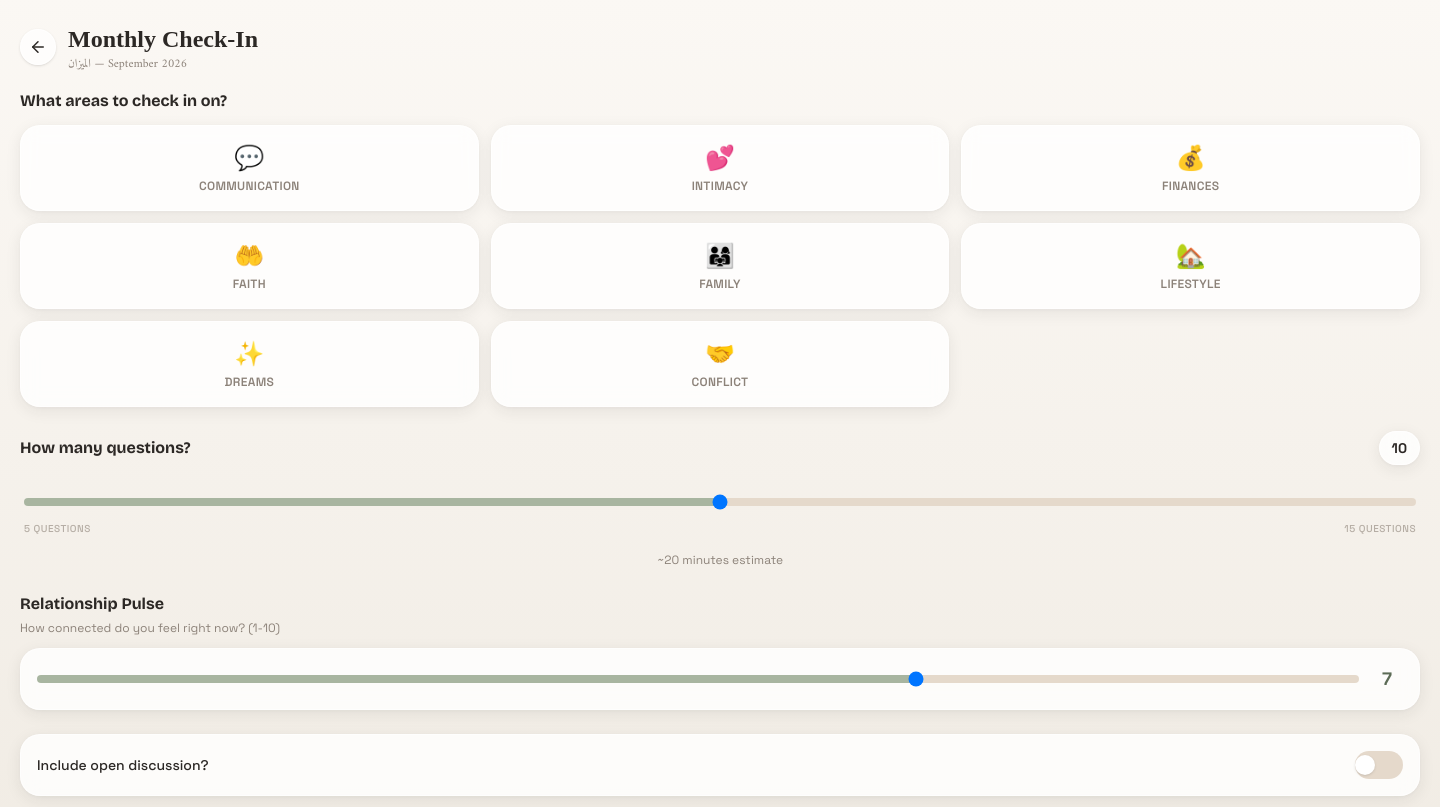
CheckInSetup › enables begin button when categories are selected
Step 1. Click the text "Communication" → click(249, 186), box x1=199 y1=178 x2=300 y2=194
(page scrolled)
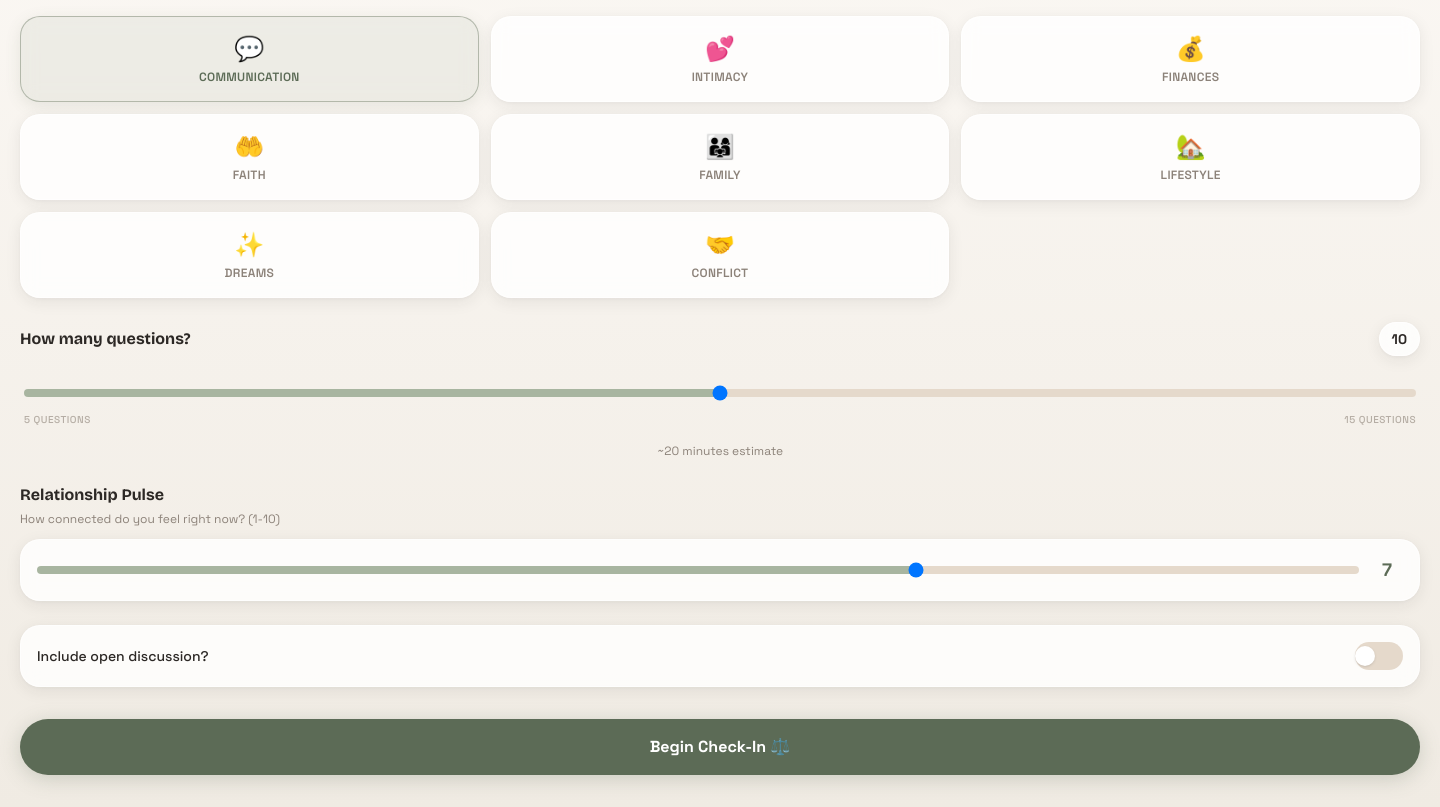
Expected: the button "Begin Check-In ⚖️" is enabled, x1=20 y1=719 x2=1420 y2=775
